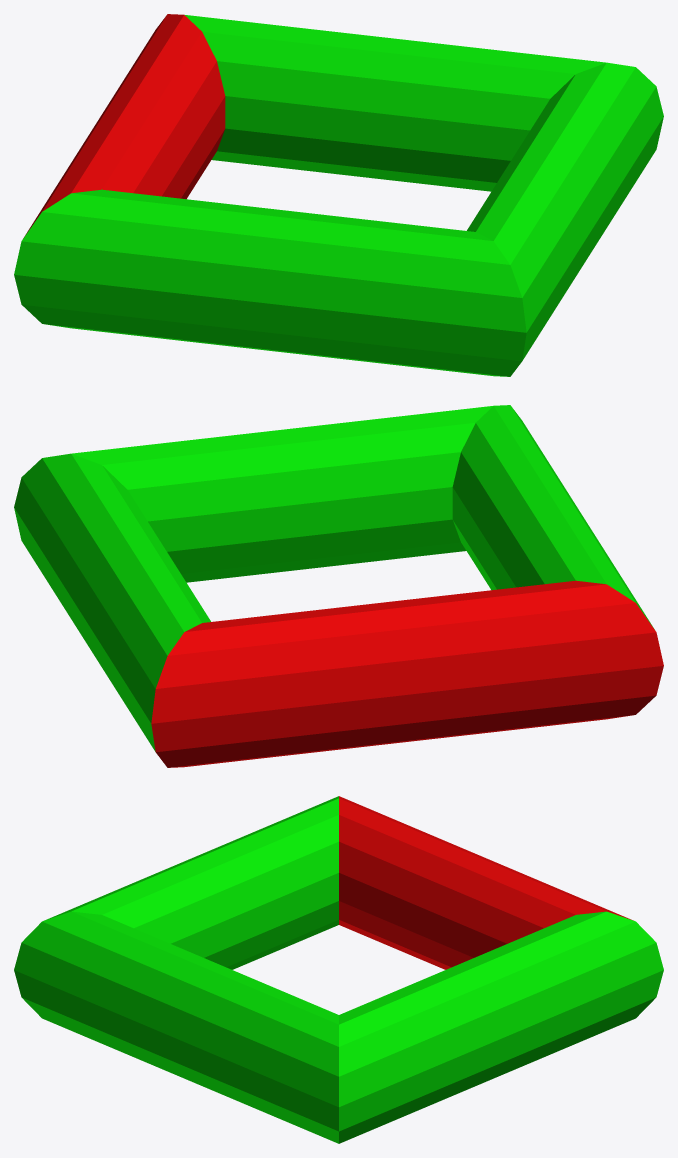
Rendered from StackFallsDemo_Object_1.fbx.
The picture shows the model from 3 angles, top to bottom: view 1: azimuth 30°, elevation 25°; view 2: azimuth 150°, elevation 25°; view 3: azimuth 270°, elevation 25°; orthographic projection. The views are drawn at different scales.
Visible parts, largest first — view 1: Torus.008, Torus.006, Torus.007, Torus.005; view 2: Torus.005, Torus.007, Torus.006, Torus.008; view 3: Torus.007, Torus.006, Torus.008, Torus.005.
Boxes of the visible parts, x1,y1,x2,y2 form: Torus.008: (14,189,526,376); Torus.006: (185,15,605,191); Torus.007: (467,62,663,360); Torus.005: (23,14,225,238); Torus.005: (151,580,663,767); Torus.007: (72,406,492,582); Torus.006: (14,453,210,751); Torus.008: (452,405,654,629); Torus.007: (14,911,338,1143); Torus.006: (339,911,663,1143); Torus.008: (44,796,338,969); Torus.005: (339,796,633,969).
Size of the model in its own units: 250 by 49.64 by 250.
